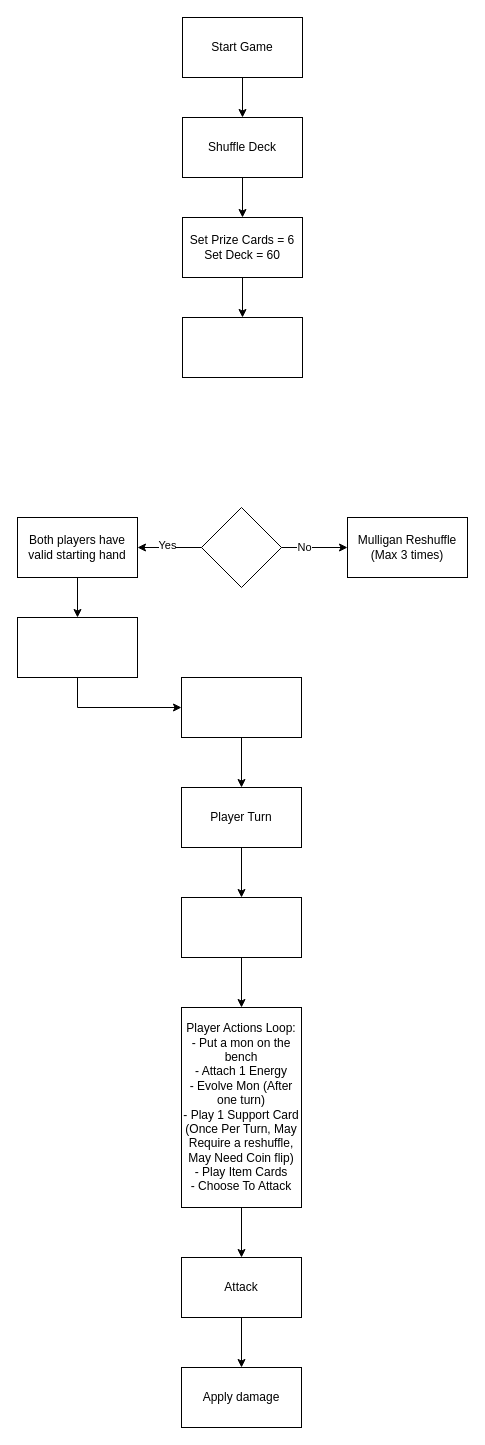
The diagram is 485 pixels wide and 1445 high, and some of its shapes have lost their labels. The centre of each missing label's shape, as x and y in pixels:
Check for Basic Mons: the point at 241,547
Draw 6 Prize Cards Each: the point at 242,347
Main Game Loop: the point at 241,707
Player Draws 1 card: the point at 241,927
Player selects Active + up to 5 Bench Mons. CPU auto selects.: the point at 77,647
